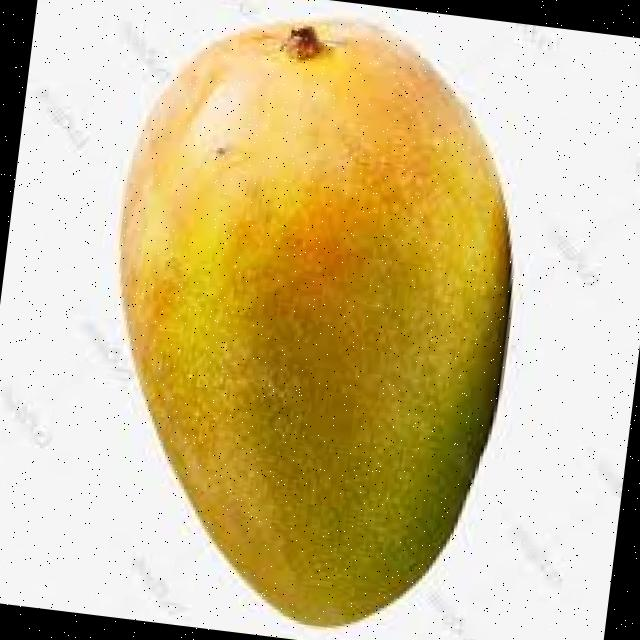mango: (116, 12, 515, 630)
